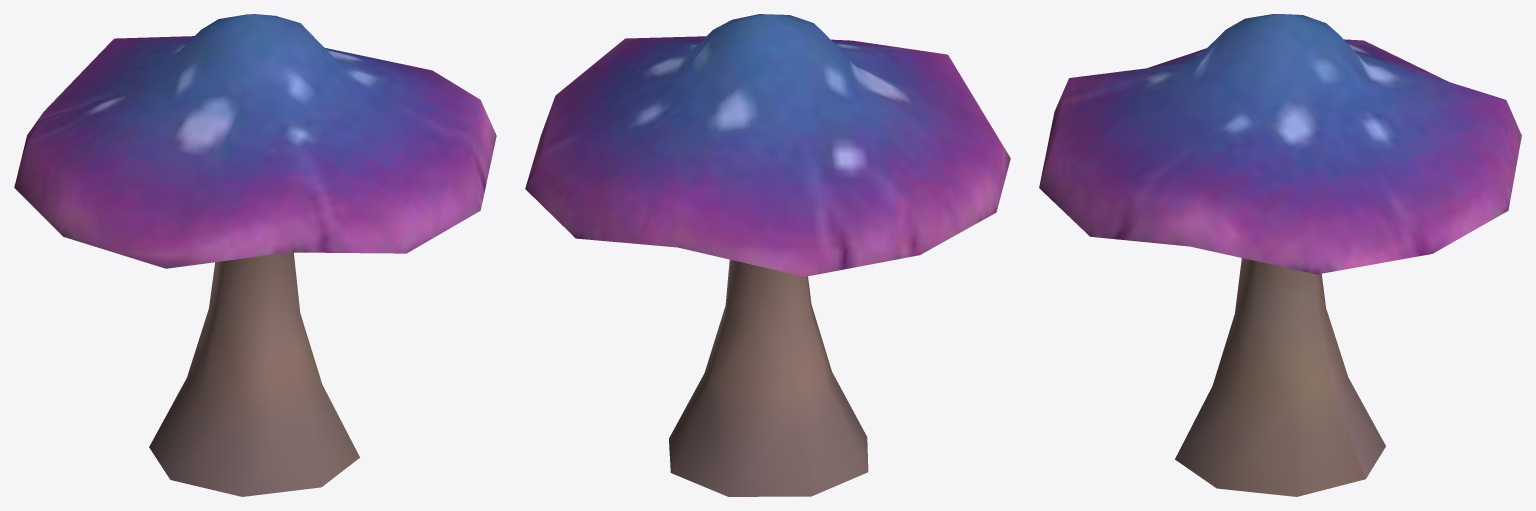
File: map_112_guanmu_7.fbx
3 views of the same model, side by side, from view 1: azimuth 30°, elevation 25°; view 2: azimuth 150°, elevation 25°; view 3: azimuth 270°, elevation 25° (orthographic).
Visible parts, largest first — view 1: map_112_guanmu_7; view 2: map_112_guanmu_7; view 3: map_112_guanmu_7.
Boxes of the visible parts, x1,y1,x2,y2 form: map_112_guanmu_7: (14, 14, 496, 496); map_112_guanmu_7: (525, 14, 1010, 496); map_112_guanmu_7: (1039, 14, 1521, 496).
Bounding box in the file's own units: 0.2601 × 0.2608 × 0.2601.
